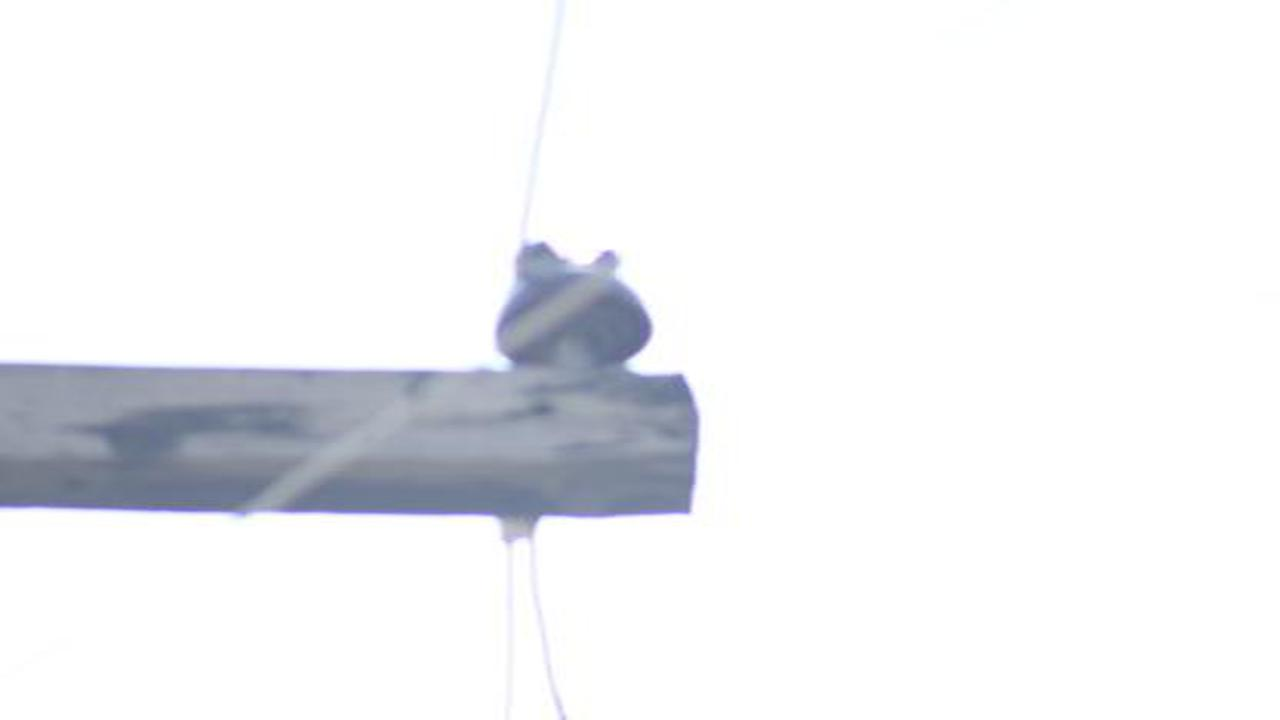insulator_pin: (487, 234, 663, 377)
